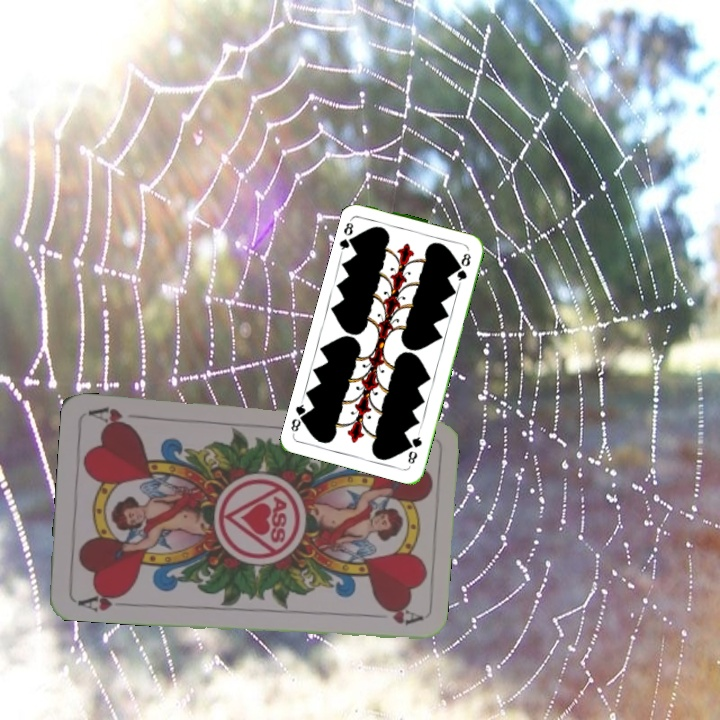G8: (336, 214, 359, 254), (403, 428, 424, 467)
HA: (72, 587, 131, 614)
